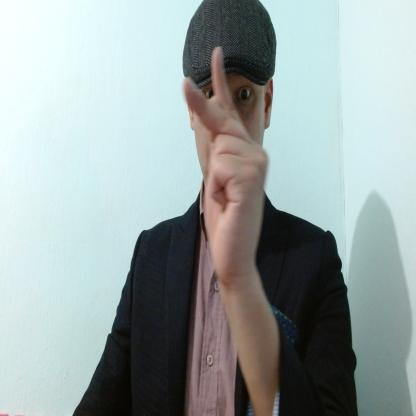P: (181, 44, 271, 286)
